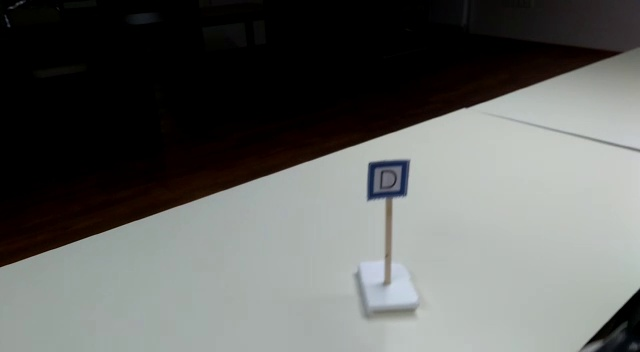durak: (368, 158, 410, 203)
